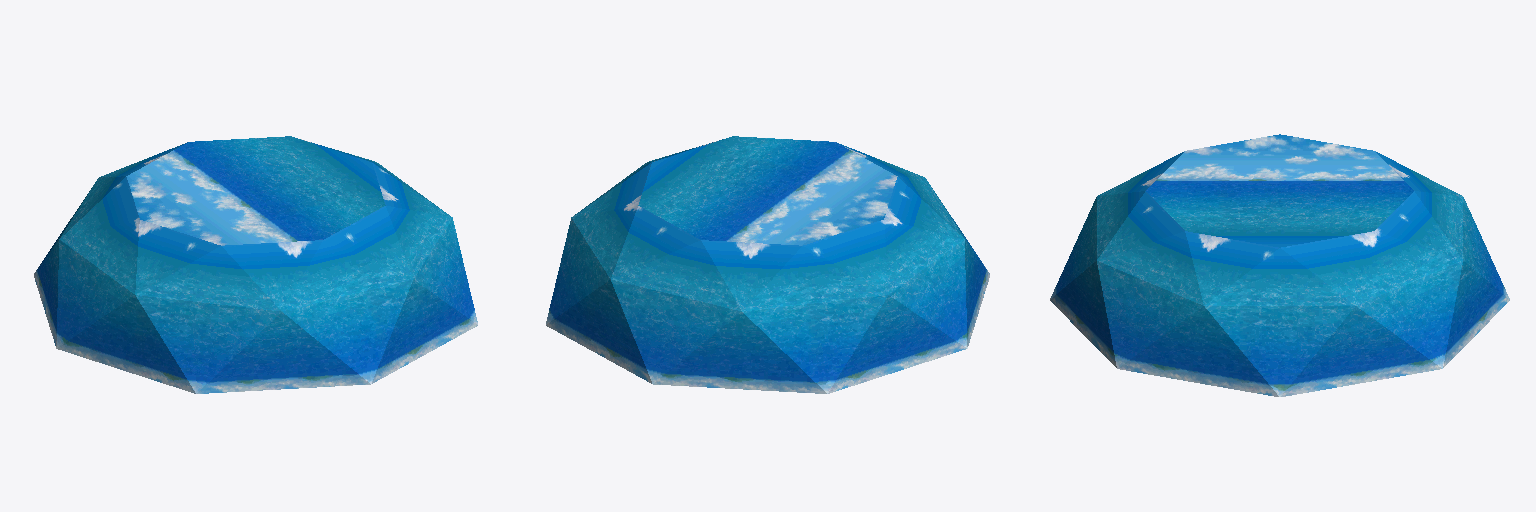
The picture shows the model from 3 angles: view 1: azimuth 30°, elevation 25°; view 2: azimuth 150°, elevation 25°; view 3: azimuth 270°, elevation 25°; orthographic projection.
Parts seen in each view (by area): view 1: world_root; view 2: world_root; view 3: world_root.
Boxes of the visible parts, x1=… form: world_root: x1=34, y1=136, x2=477, y2=393; world_root: x1=546, y1=136, x2=989, y2=393; world_root: x1=1050, y1=134, x2=1509, y2=396.
Bounding box in the file's own units: 117964 × 36742 × 117964.
Materials: 3 (3 with a texture image).